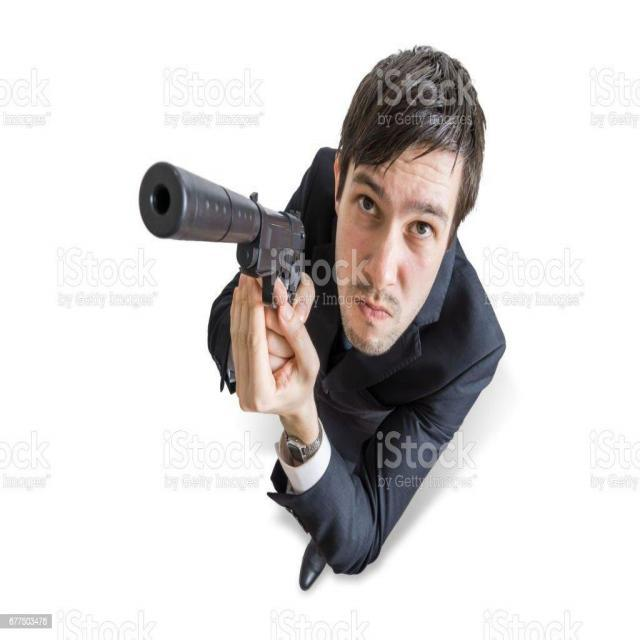gun: (138, 159, 305, 391)
